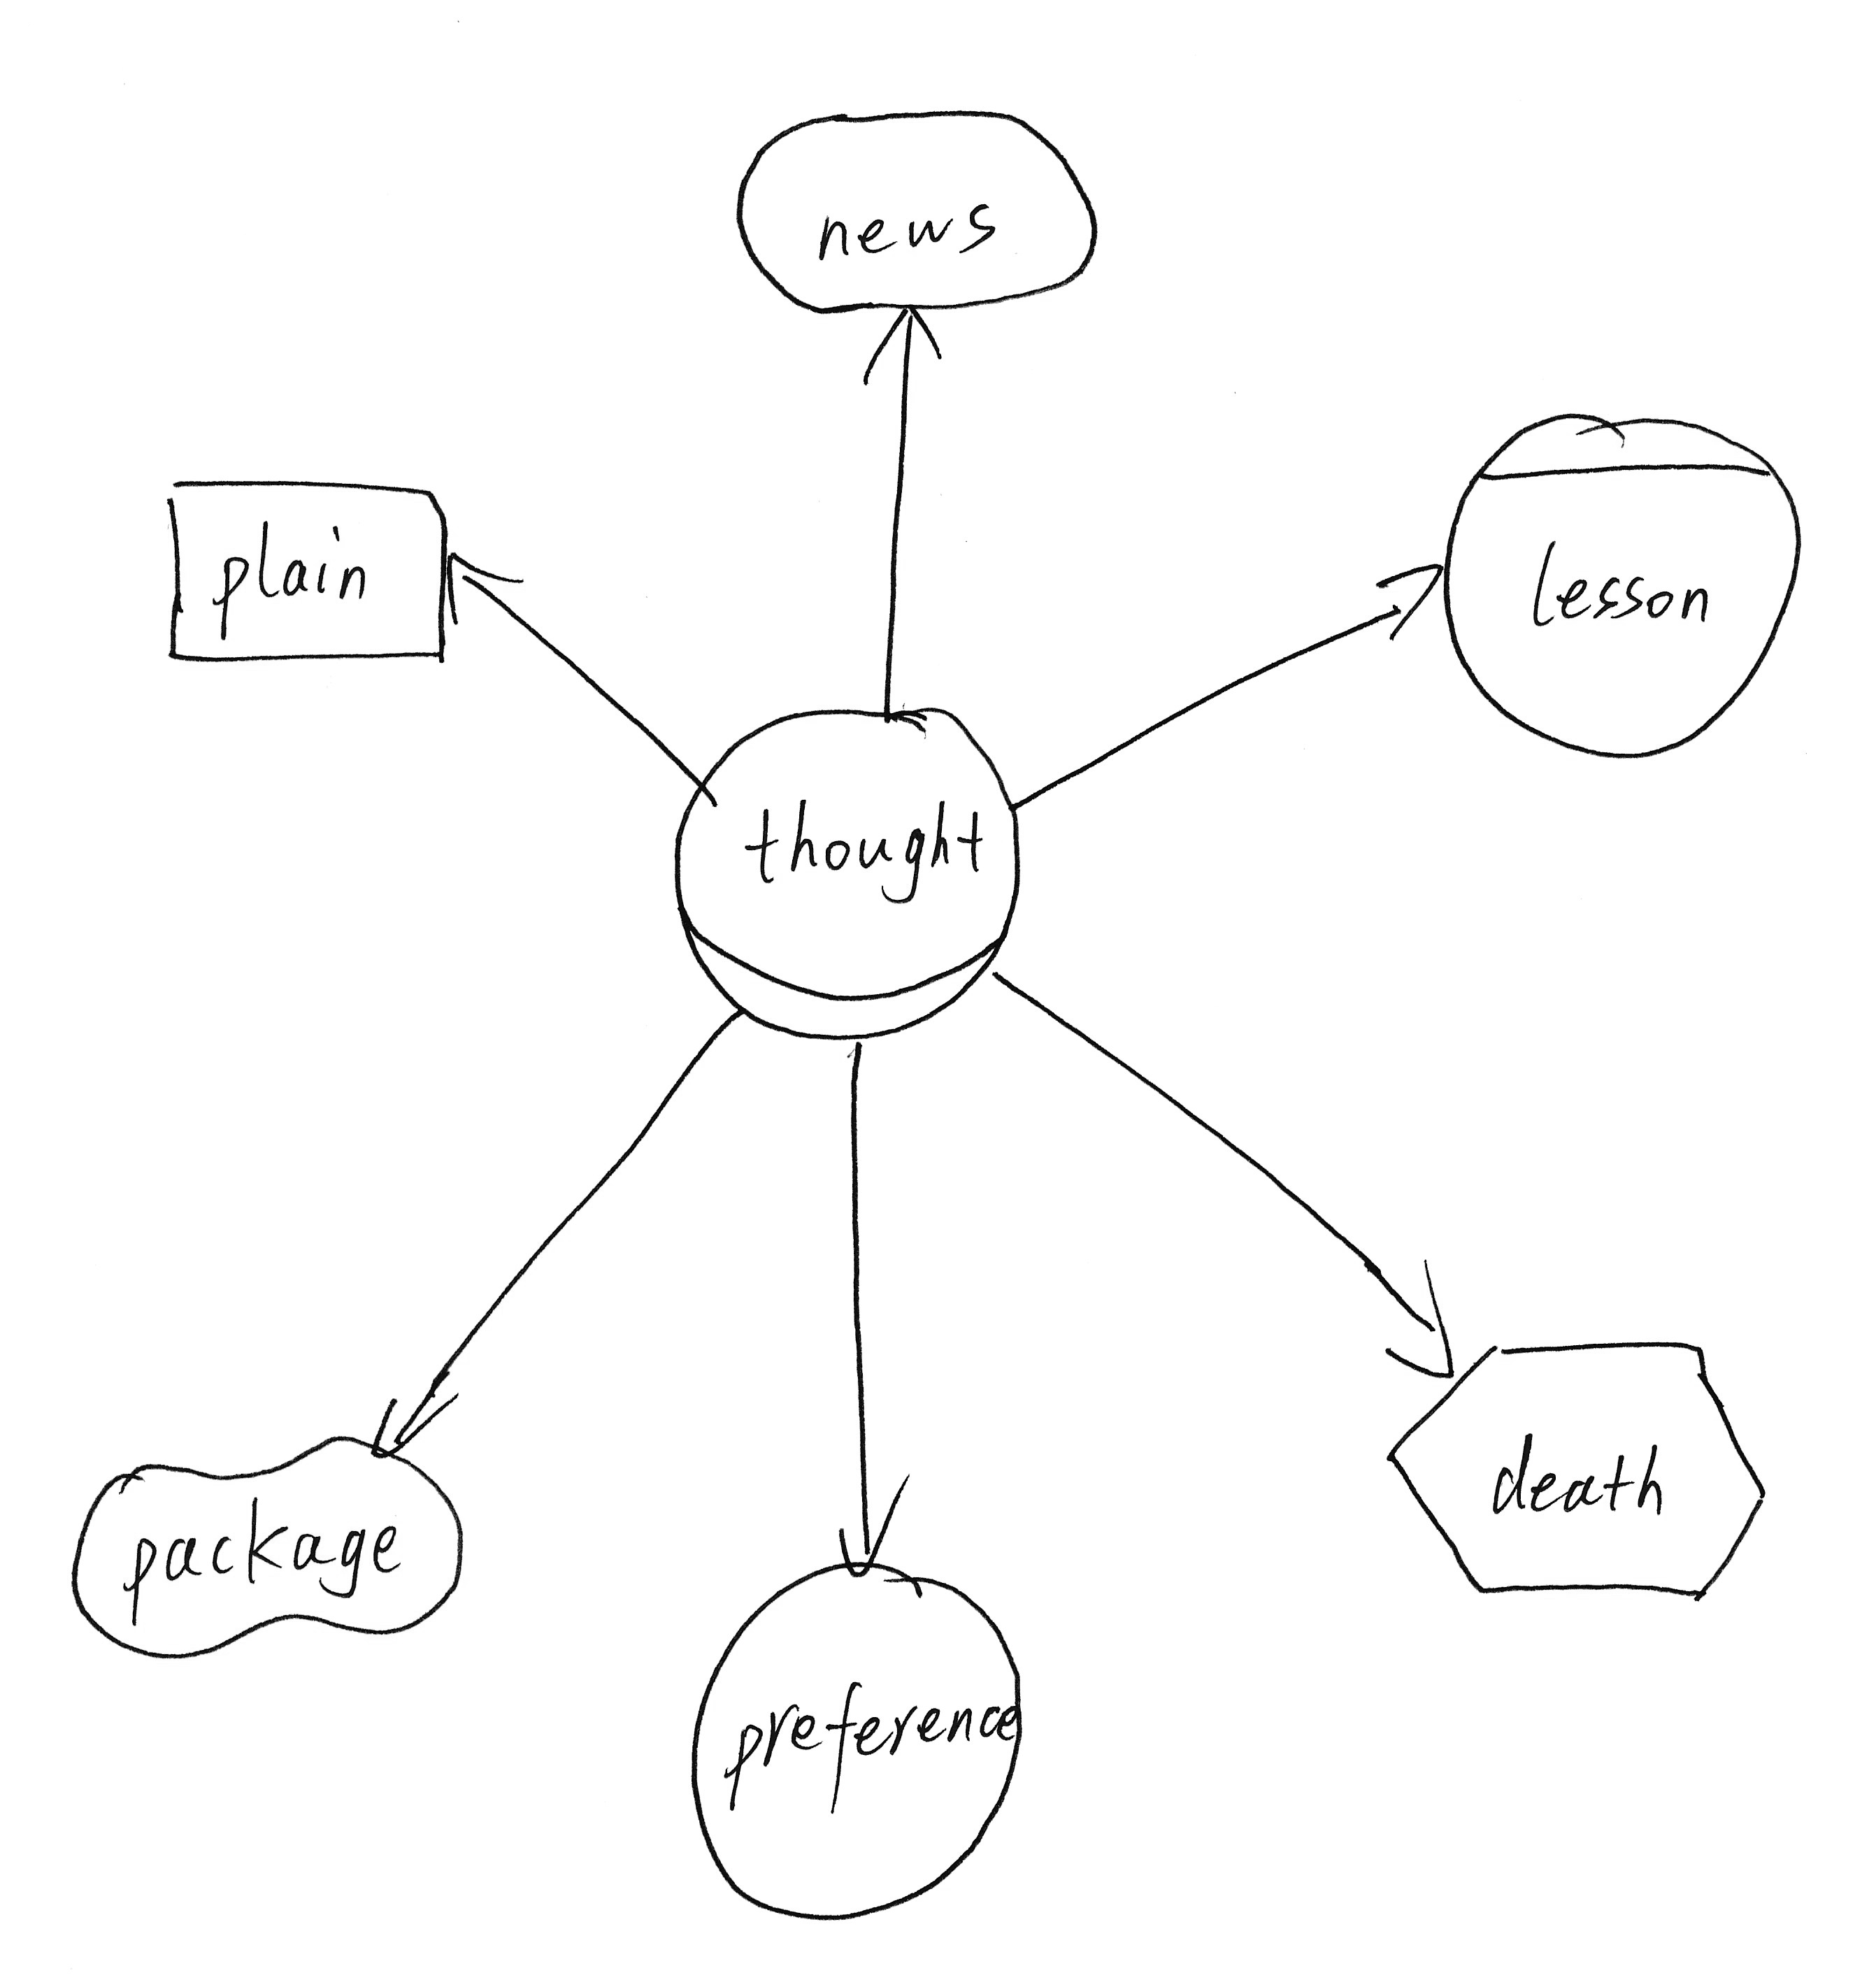actor: (677, 1545, 1046, 1934)
agent: (1430, 397, 1821, 774)
arrow: (1370, 1248, 1478, 1389), (822, 1463, 927, 1592), (427, 532, 540, 651), (358, 1373, 478, 1470), (855, 293, 950, 398), (1372, 547, 1455, 654)
goal: (719, 93, 1114, 328)
quality: (55, 1418, 485, 1670)
resource: (152, 460, 465, 684)
role: (658, 682, 1035, 1053)
task: (1372, 1321, 1788, 1619)
